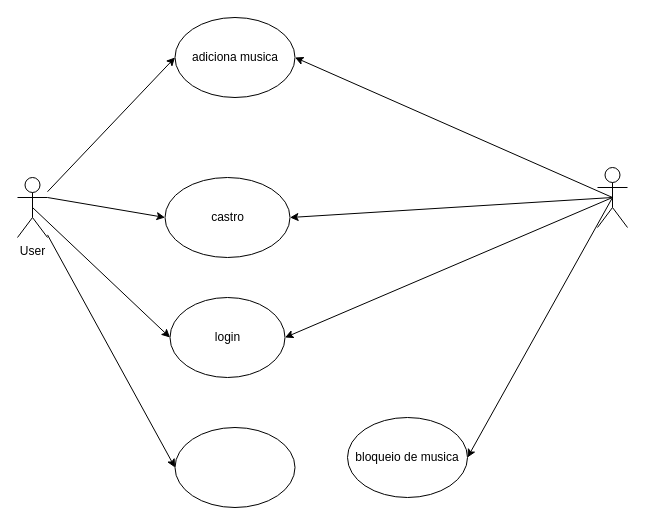
Image size: 646x525. Some labels were removed from this diagram. Each missing label, with the box of its shape:
admin: (596, 166, 628, 228)
vota: (174, 426, 295, 508)
